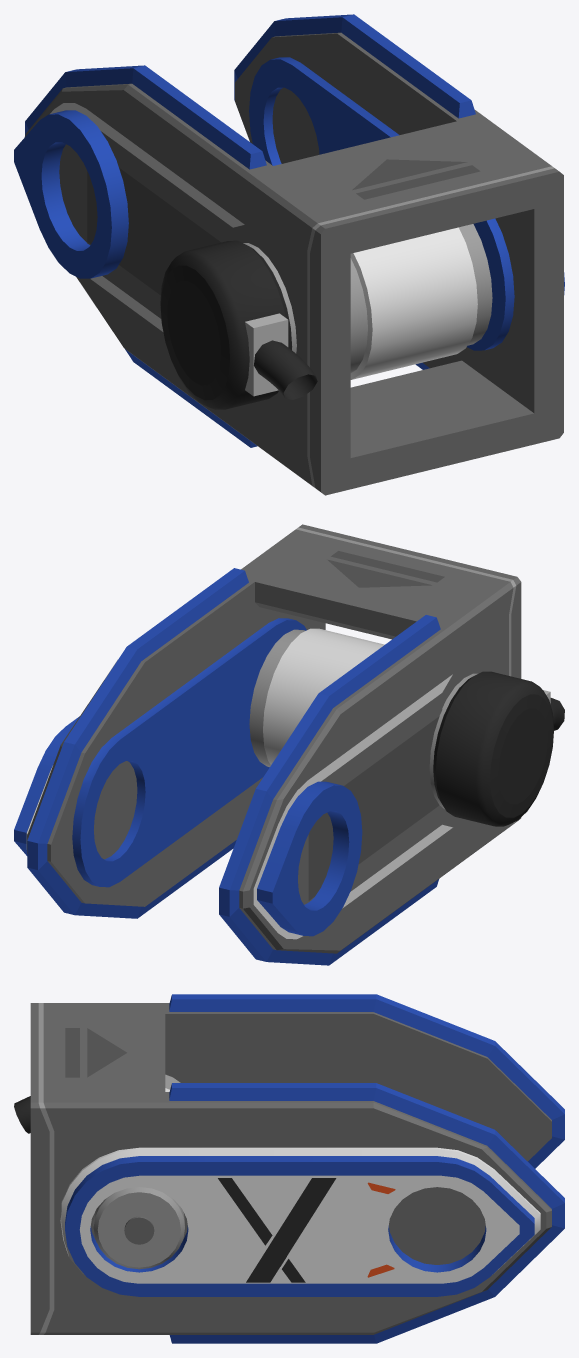
The model's file is drive_RL.glb.
3 views of the same model, one above another, from view 1: azimuth 30°, elevation 25°; view 2: azimuth 150°, elevation 25°; view 3: azimuth 270°, elevation 25° (orthographic). The views are drawn at different scales.
Visible parts, largest first — view 1: drive_RL; view 2: drive_RL; view 3: drive_RL.
Part boxes in pixels (x1,y1,x2,y2): drive_RL: (14, 14, 564, 495); drive_RL: (14, 524, 564, 965); drive_RL: (14, 994, 564, 1343).
Size of the model in its own units: 0.1121 by 0.0947 by 0.1849.
